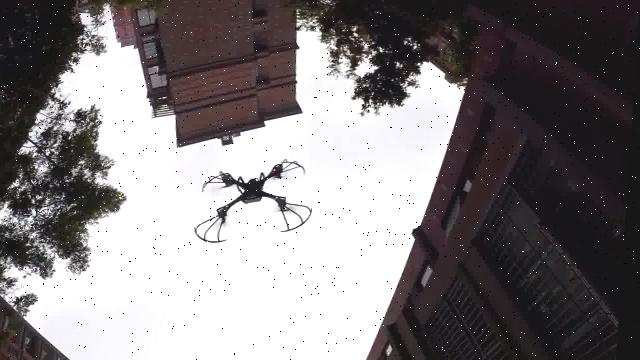drone: (196, 150, 321, 250)
